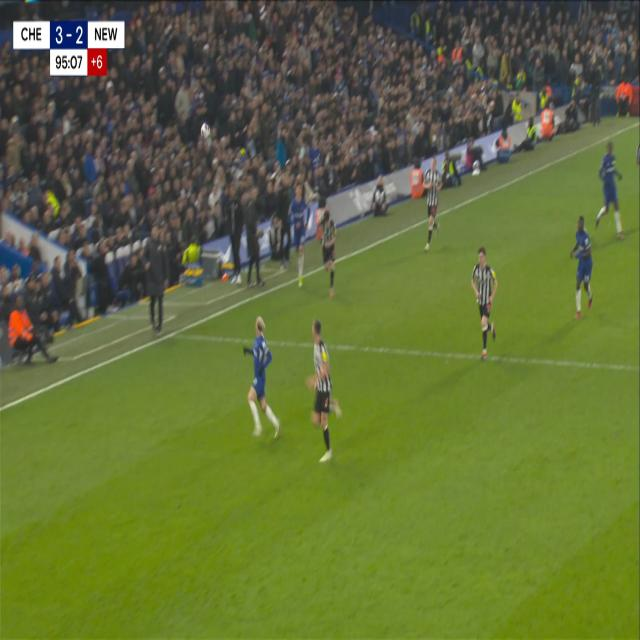Chelsea: (239, 308, 284, 446), (594, 133, 623, 248), (567, 212, 597, 318)
New castle: (310, 314, 344, 464), (468, 242, 501, 365), (418, 150, 442, 248), (316, 208, 342, 296)
